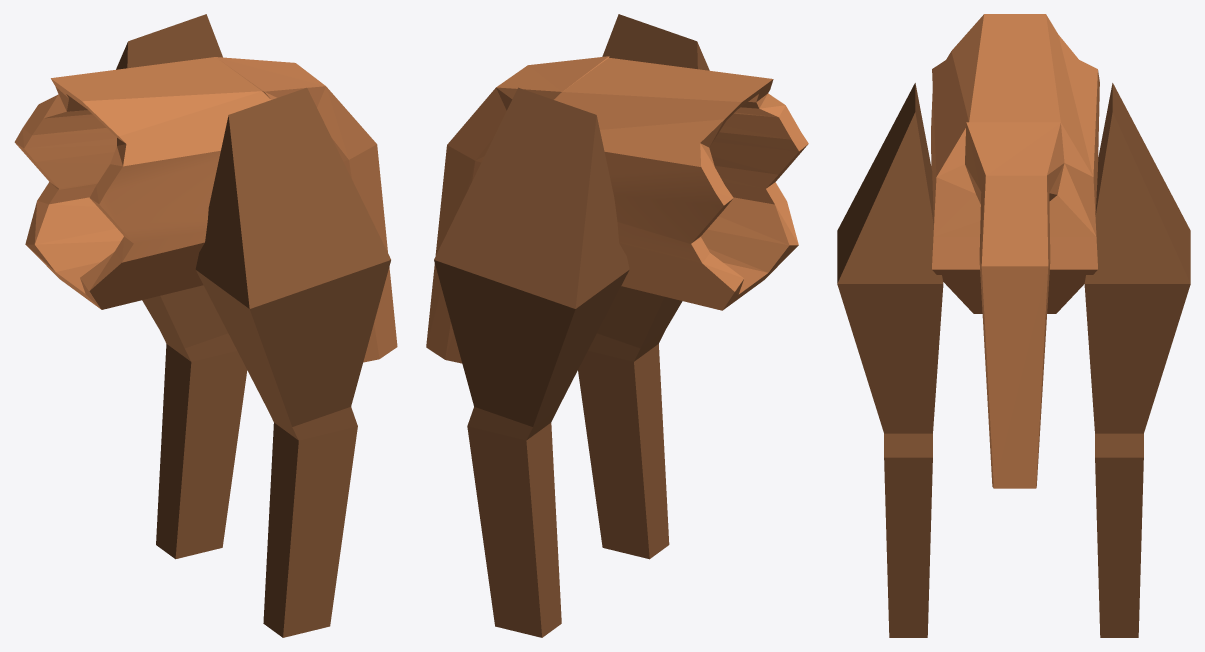
The model's file is pinata_half_back.fbx.
3 renders of one model, left to right at view 1: azimuth 30°, elevation 25°; view 2: azimuth 150°, elevation 25°; view 3: azimuth 270°, elevation 25°, orthographic.
Visible parts, largest first — view 1: pinata_half_back; view 2: pinata_half_back; view 3: pinata_half_back.
Part boxes in pixels (<box>): pinata_half_back: <box>14,14,397,637</box>; pinata_half_back: <box>426,14,808,637</box>; pinata_half_back: <box>837,14,1190,637</box>.
Size of the model in its own units: 44.63 by 69.59 by 42.19.
Materials: 1 (1 with a texture image).
